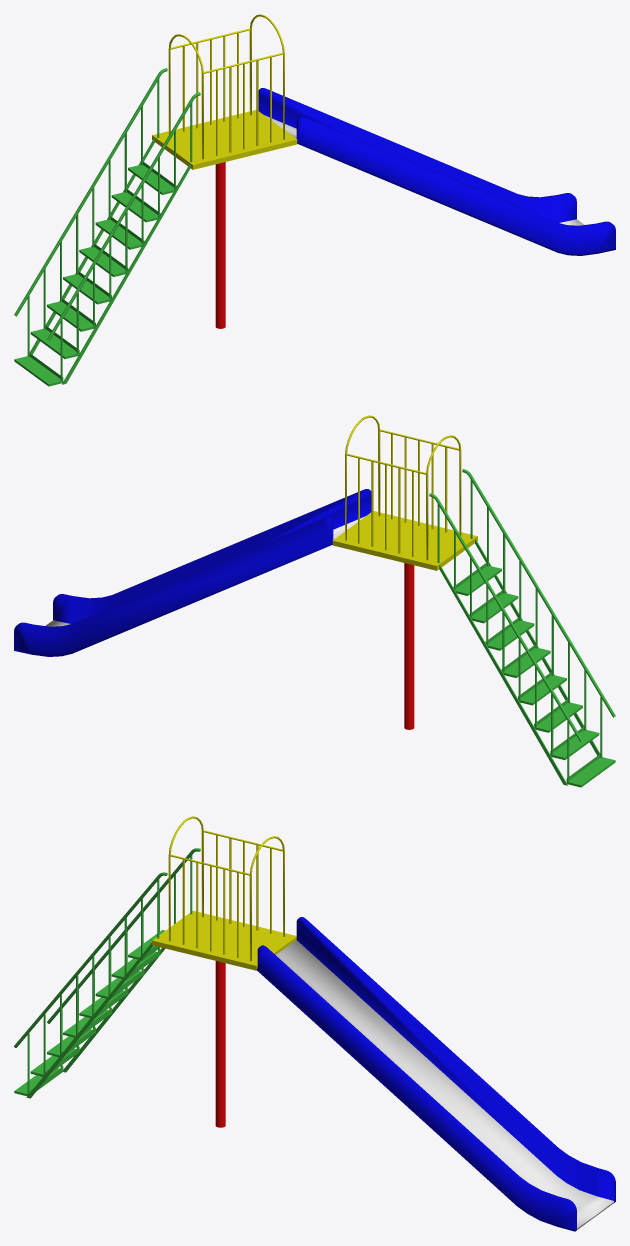
Rendered from slope.fbx.
3 views of the same model, one above another, from view 1: azimuth 30°, elevation 25°; view 2: azimuth 150°, elevation 25°; view 3: azimuth 330°, elevation 25° (orthographic).
Visible parts, largest first — view 1: slope_01, slope_04, slope_02, slope_03; view 2: slope_01, slope_04, slope_02, slope_03; view 3: slope_01, slope_02, slope_04, slope_03.
Boxes of the visible parts, <box> form: slope_01: <box>258,88,615,255</box>; slope_04: <box>14,68,200,386</box>; slope_02: <box>152,14,297,169</box>; slope_03: <box>215,162,225,328</box>; slope_01: <box>14,489,371,656</box>; slope_04: <box>429,469,615,787</box>; slope_02: <box>332,415,477,570</box>; slope_03: <box>404,563,414,729</box>; slope_01: <box>256,917,615,1231</box>; slope_02: <box>152,816,296,970</box>; slope_04: <box>14,848,200,1098</box>; slope_03: <box>215,961,225,1127</box>.
Bounding box in the file's own units: 883 × 448 × 110.
